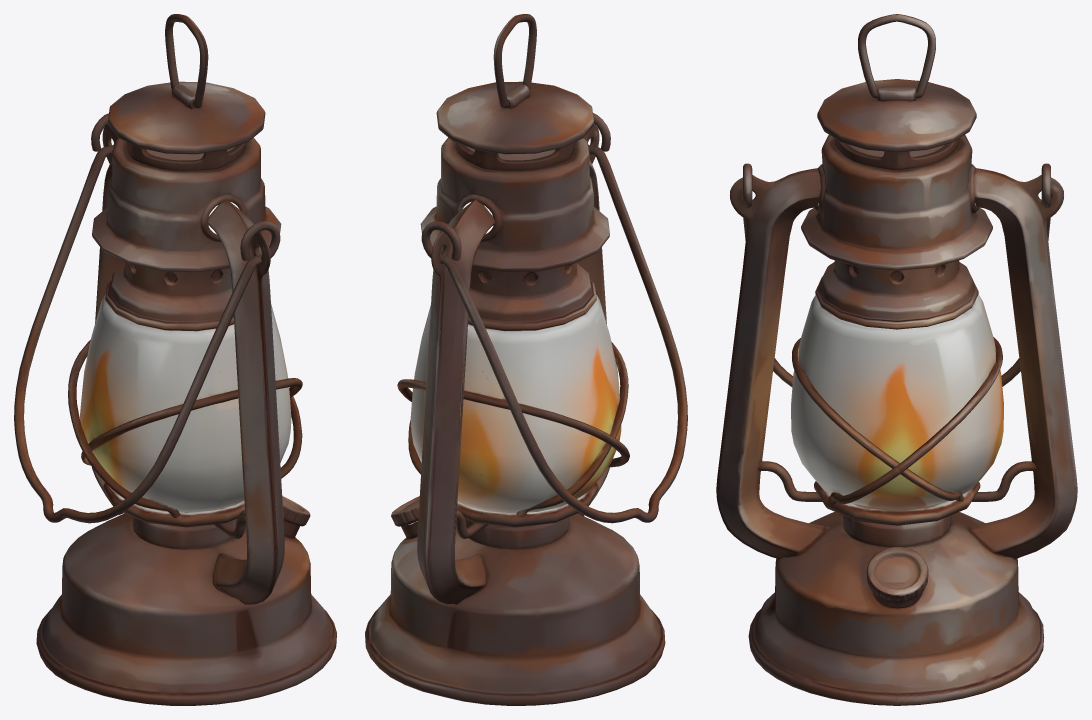
File: 02-lantern.glb
The picture shows the model from 3 angles, left to right: view 1: azimuth 30°, elevation 25°; view 2: azimuth 150°, elevation 25°; view 3: azimuth 270°, elevation 25°; orthographic projection.
Visible parts, largest first — view 1: tripo_node_3ceaee28-4104-4a0e-ac00-a6d3fee4edbc; view 2: tripo_node_3ceaee28-4104-4a0e-ac00-a6d3fee4edbc; view 3: tripo_node_3ceaee28-4104-4a0e-ac00-a6d3fee4edbc.
Boxes of the visible parts, <box> form: tripo_node_3ceaee28-4104-4a0e-ac00-a6d3fee4edbc: <box>14,14,336,705</box>; tripo_node_3ceaee28-4104-4a0e-ac00-a6d3fee4edbc: <box>365,14,687,705</box>; tripo_node_3ceaee28-4104-4a0e-ac00-a6d3fee4edbc: <box>716,14,1077,705</box>.
Bounding box in the file's own units: 0.4517 × 0.9995 × 0.521.
Materials: 1 (1 with a texture image).
